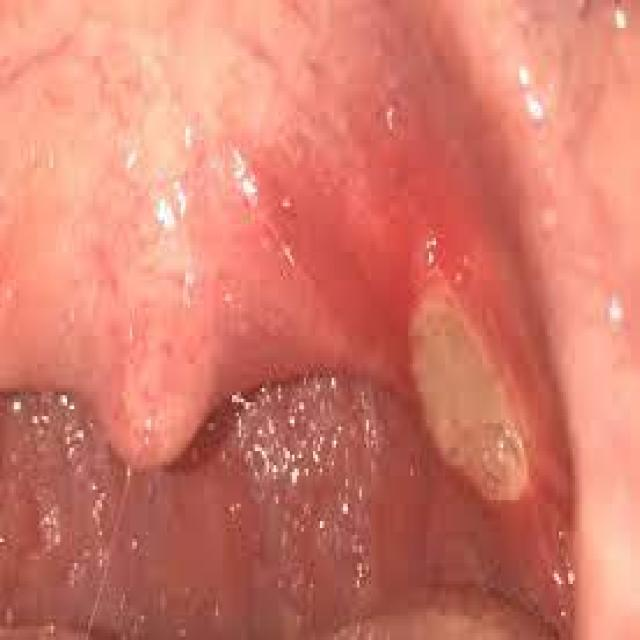processing_area: (1, 0, 638, 637)
ulcer-detection: (376, 177, 576, 544)
